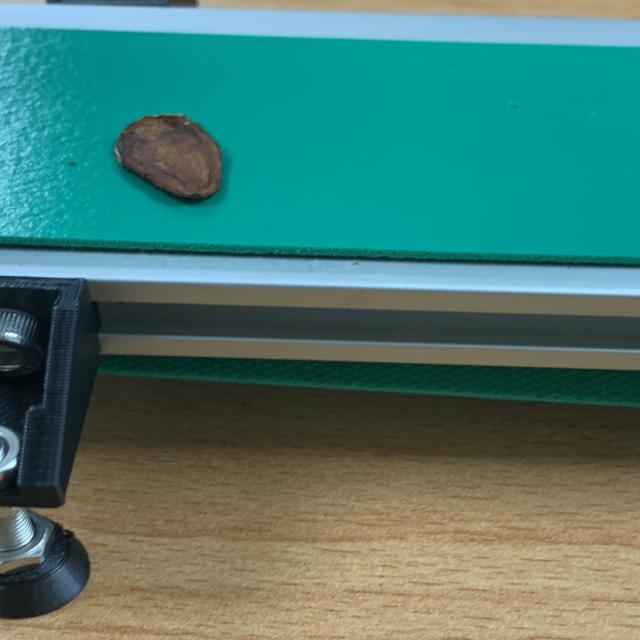Flat_cocoabeans: (79, 81, 288, 235)
